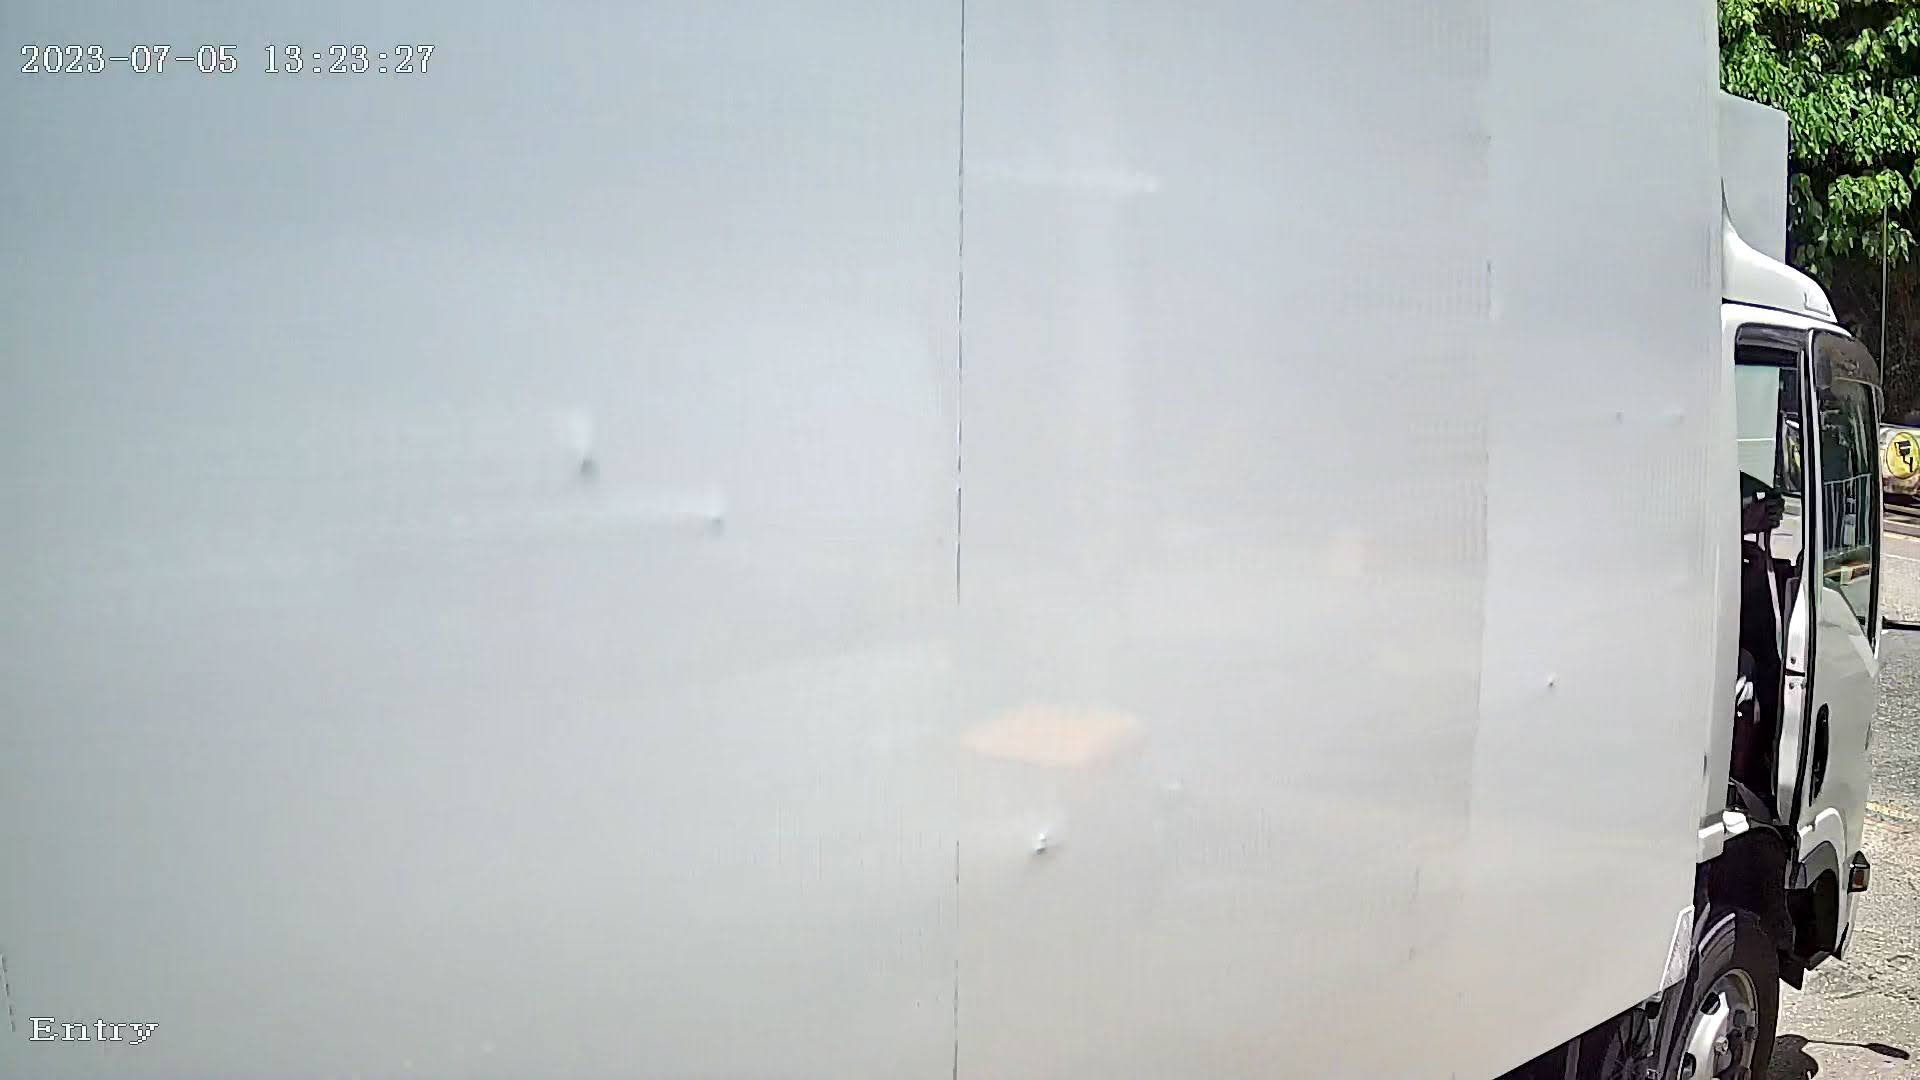truck: (22, 1, 1884, 1075)
